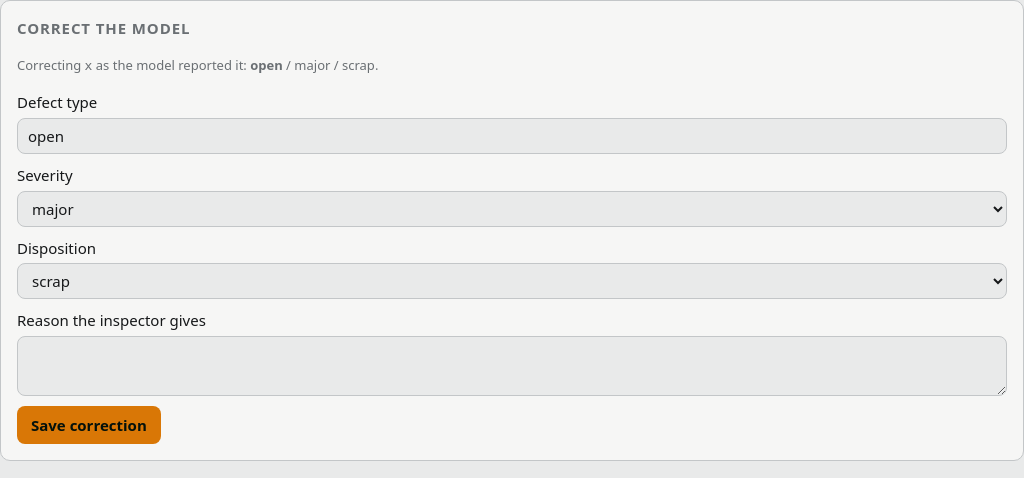
Test case: CorrectionForm › shows an error when the save fails
Click the button "Save correction". click: click(89, 425)
box: [17, 406, 161, 444]
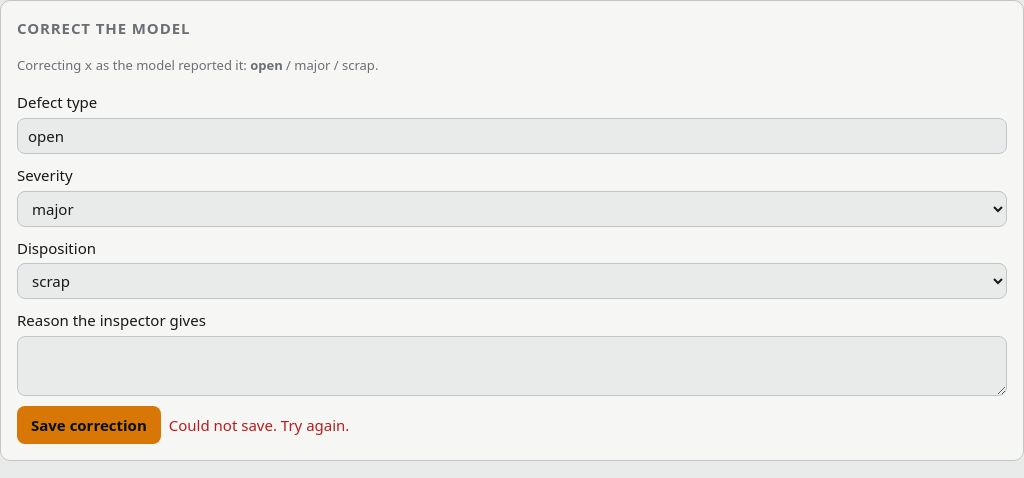
Now the text "Could not save. Try again." is shown, box [169, 414, 349, 436]
